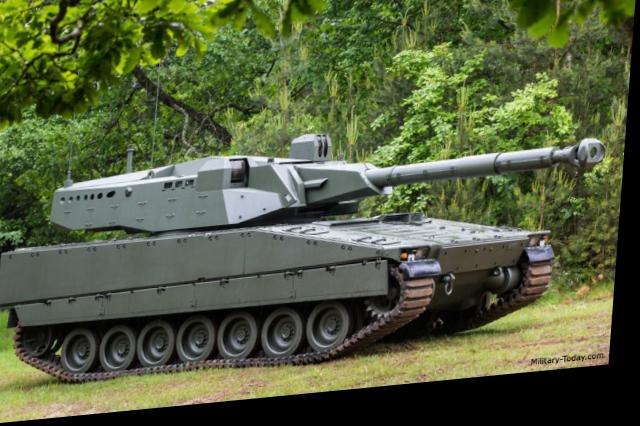tank: (0, 123, 572, 389)
